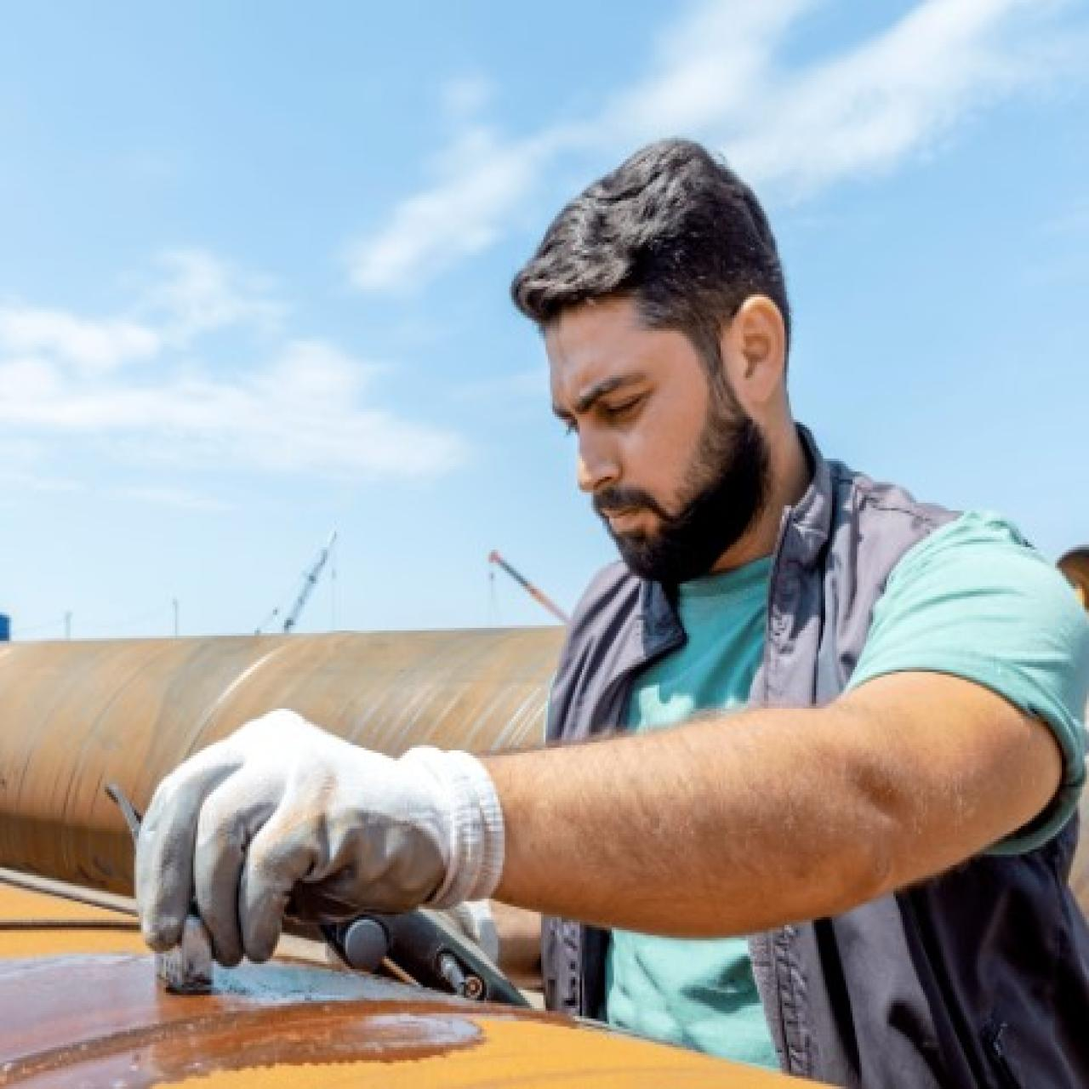NO_Safety_Vest: (550, 502, 1053, 1085)
Person: (105, 123, 1089, 1089)
